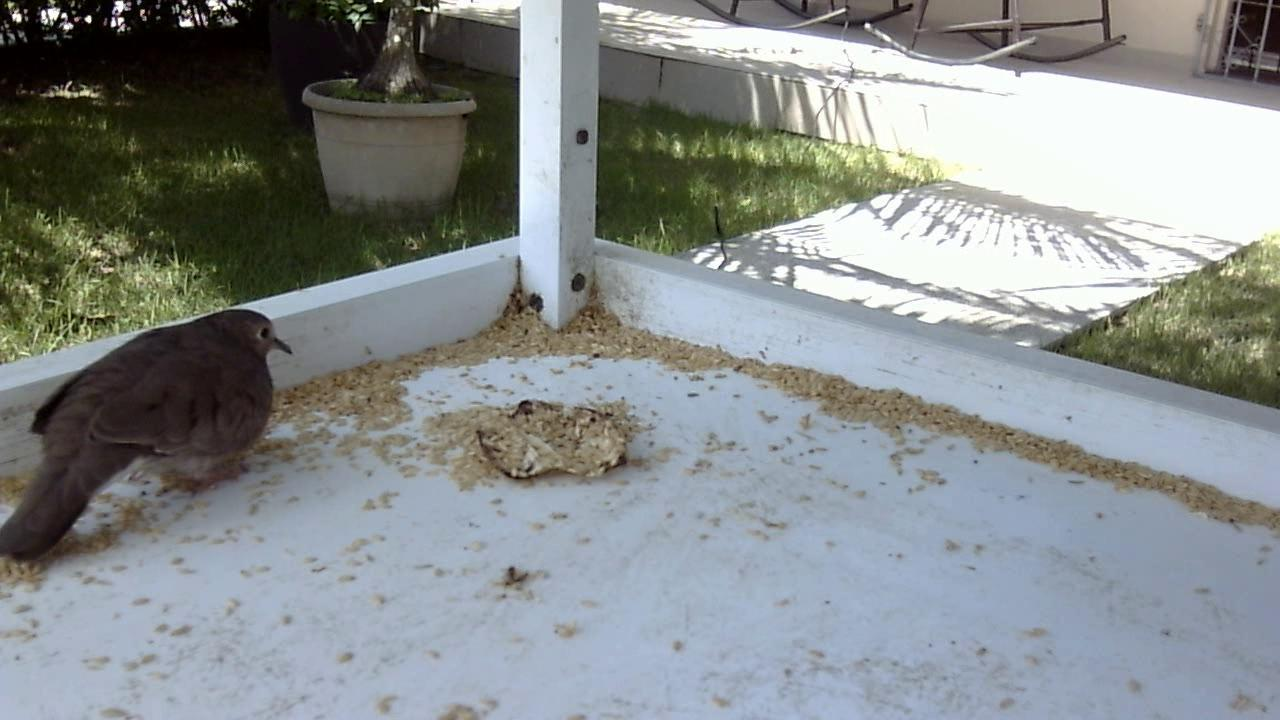rolinha: (3, 302, 301, 571)
